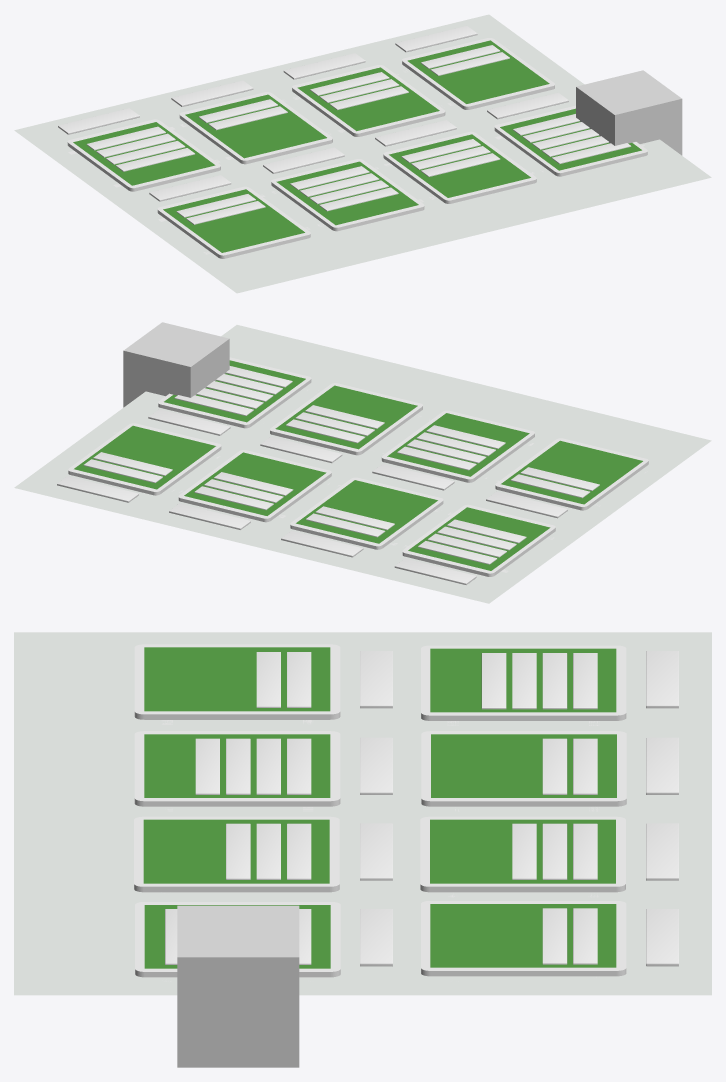
The model's file is notice_board (2).glb.
The picture shows the model from 3 angles, top to bottom: view 1: azimuth 30°, elevation 25°; view 2: azimuth 150°, elevation 25°; view 3: azimuth 270°, elevation 25°; orthographic projection. The views are drawn at different scales.
Parts seen in each view (by area): view 1: Plane, Cube, Plane.001, Plane.011, Plane.009, Plane.015, Plane.013, Plane.003, Plane.008, Plane.005, Cube.004, Cube.015 (+31 smaller); view 2: Plane, Cube, Plane.011, Plane.009, Plane.001, Plane.013, Plane.015, Plane.003, Plane.008, Plane.005, Cube.016, Cube.015 (+31 smaller); view 3: Plane, Cube, Plane.001, Plane.009, Plane.011, Plane.013, Plane.015, Plane.003, Plane.008, Plane.005, Cube.004, Cube.015 (+28 smaller).
Part boxes in pixels (box(x1,y1,x2,y2)): Plane: box(14, 14, 711, 293); Cube: box(576, 70, 682, 155); Plane.001: box(157, 186, 310, 258); Plane.011: box(179, 92, 332, 164); Plane.009: box(402, 38, 554, 109); Plane.015: box(383, 131, 536, 203); Plane.013: box(292, 65, 445, 136); Plane.003: box(271, 159, 424, 231); Plane.008: box(67, 119, 220, 191); Plane.005: box(494, 105, 647, 176); Cube.004: box(149, 175, 231, 201); Cube.015: box(58, 108, 139, 134); Plane: box(14, 325, 711, 603); Cube: box(123, 322, 229, 407); Plane.011: box(290, 477, 443, 549); Plane.009: box(68, 423, 221, 495); Plane.001: box(495, 438, 648, 510); Plane.013: box(178, 450, 331, 522); Plane.015: box(270, 383, 422, 455); Plane.003: box(381, 410, 534, 482); Plane.008: box(402, 504, 555, 576); Plane.005: box(158, 357, 311, 428); Cube.016: box(148, 409, 230, 435); Cube.015: box(394, 558, 476, 584); Plane: box(14, 632, 711, 995); Cube: box(177, 905, 299, 1067); Plane.001: box(134, 644, 340, 719); Plane.009: box(421, 901, 626, 976); Plane.011: box(421, 731, 626, 806); Plane.013: box(420, 816, 625, 892); Plane.015: box(134, 816, 339, 892); Plane.003: box(134, 731, 340, 806); Plane.008: box(421, 645, 626, 720); Plane.005: box(135, 902, 340, 977); Cube.004: box(360, 651, 392, 708); Cube.015: box(646, 651, 678, 708).
Size of the model in its own units: 14.77 by 2 by 11.46.
